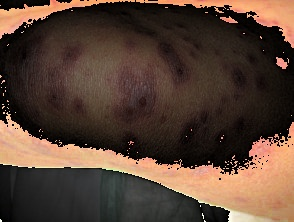SJS-TEN: (72, 3, 203, 136), (38, 40, 88, 130)
